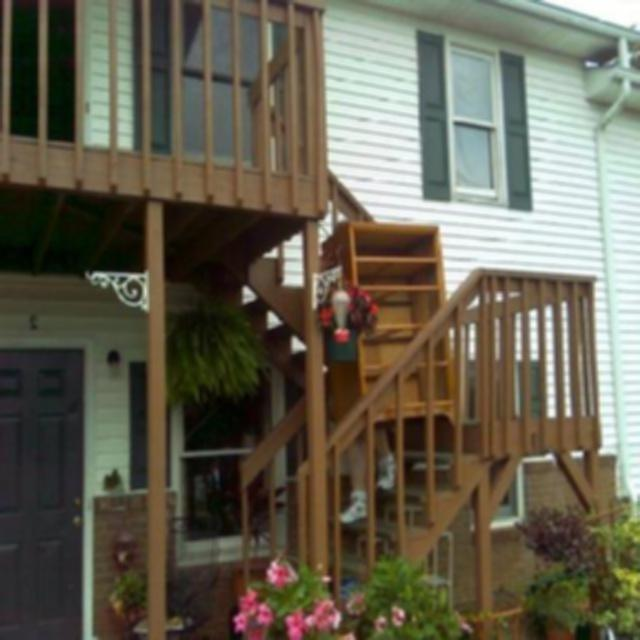stair: (238, 100, 602, 638)
